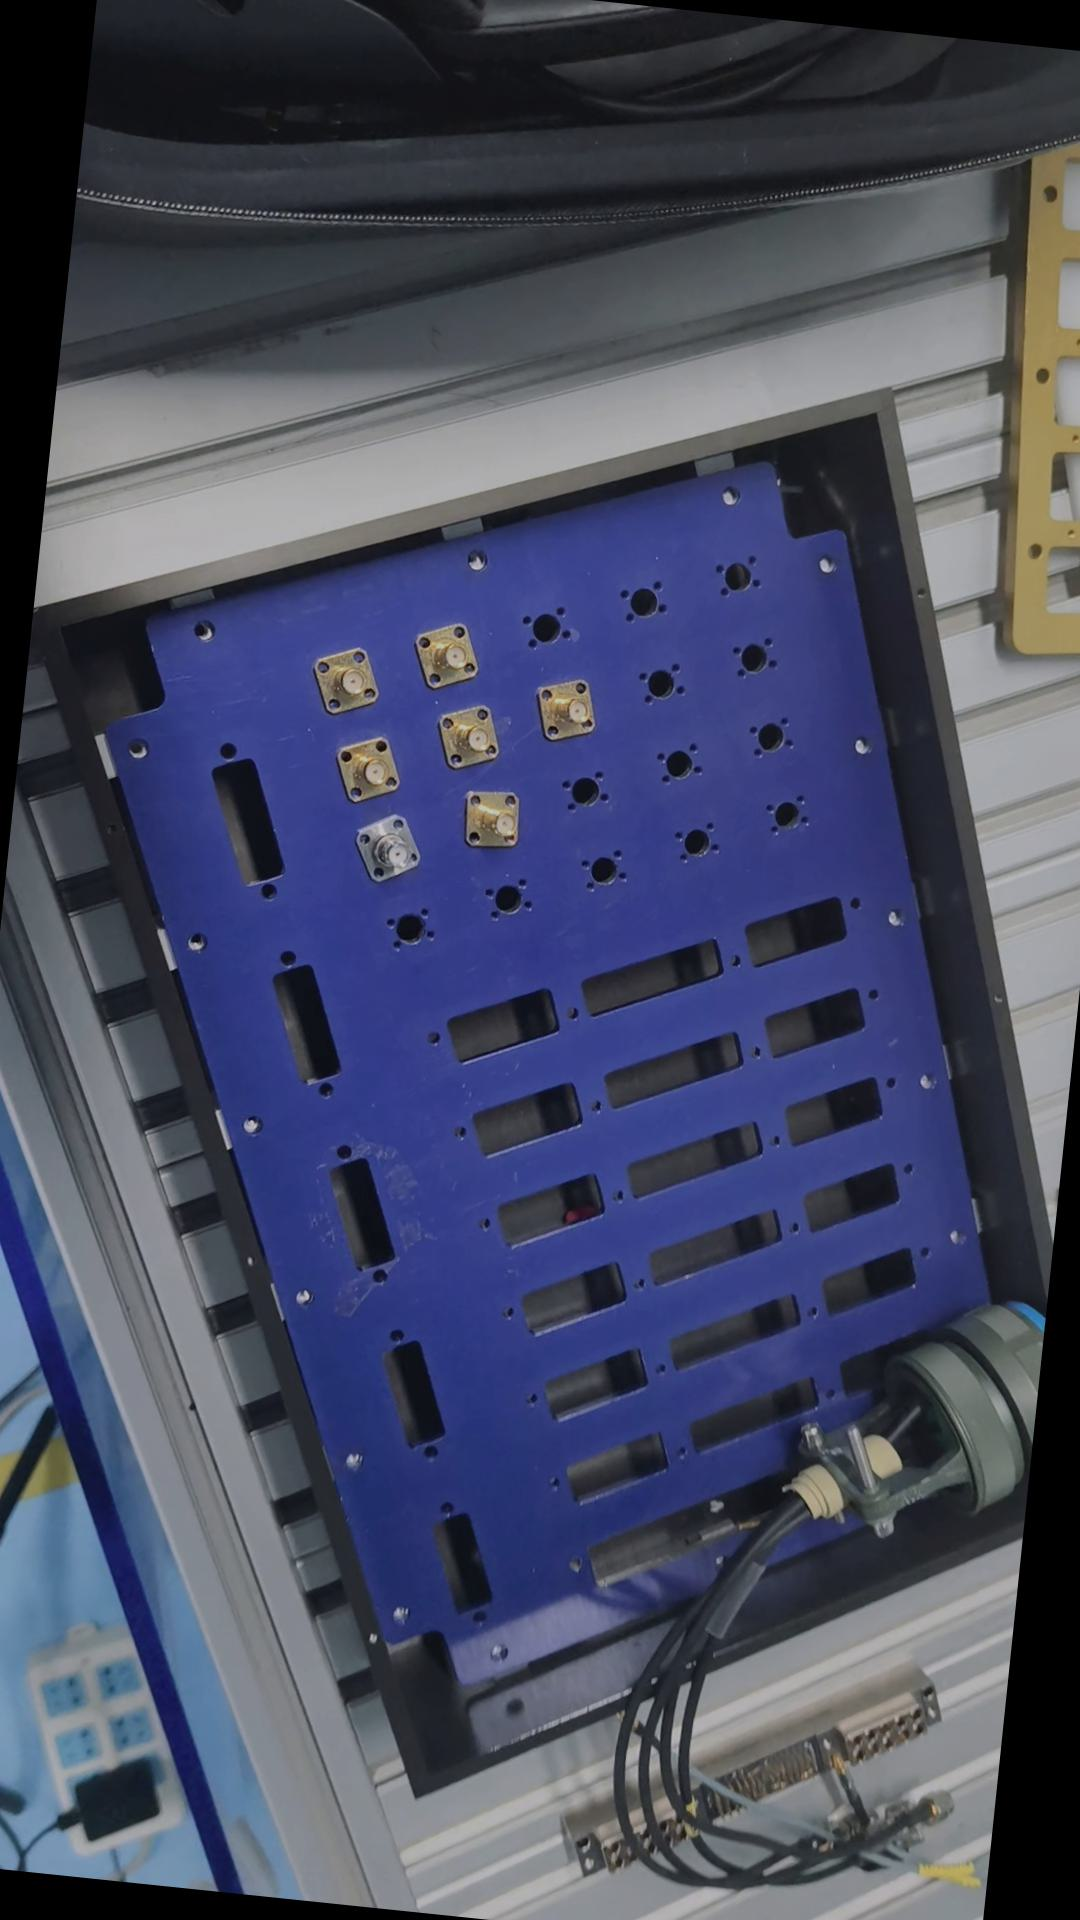SMA: (411, 613, 487, 696), (357, 807, 433, 885), (429, 698, 506, 767), (311, 645, 385, 716), (537, 674, 604, 748), (336, 738, 407, 806), (462, 791, 531, 851)
